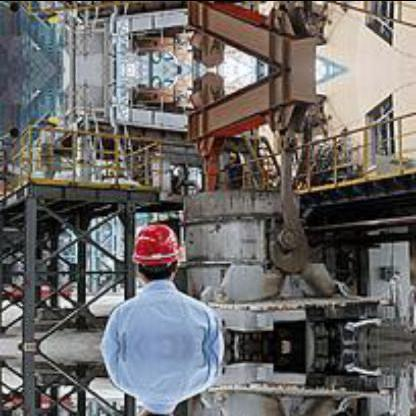Helmet: (127, 220, 180, 280), (42, 110, 60, 124), (42, 12, 60, 26)
